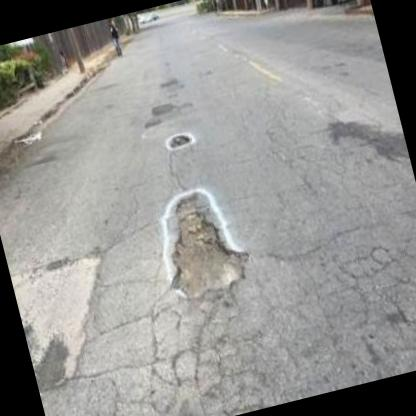pothole: (150, 183, 253, 306), (165, 128, 192, 150)
